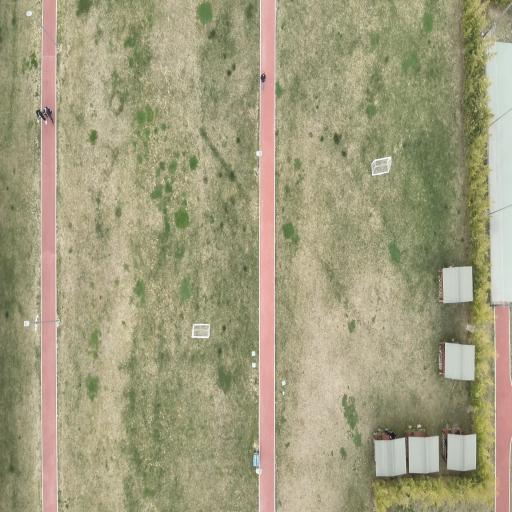person: (44, 107, 54, 124), (36, 110, 44, 122), (261, 72, 265, 89)
